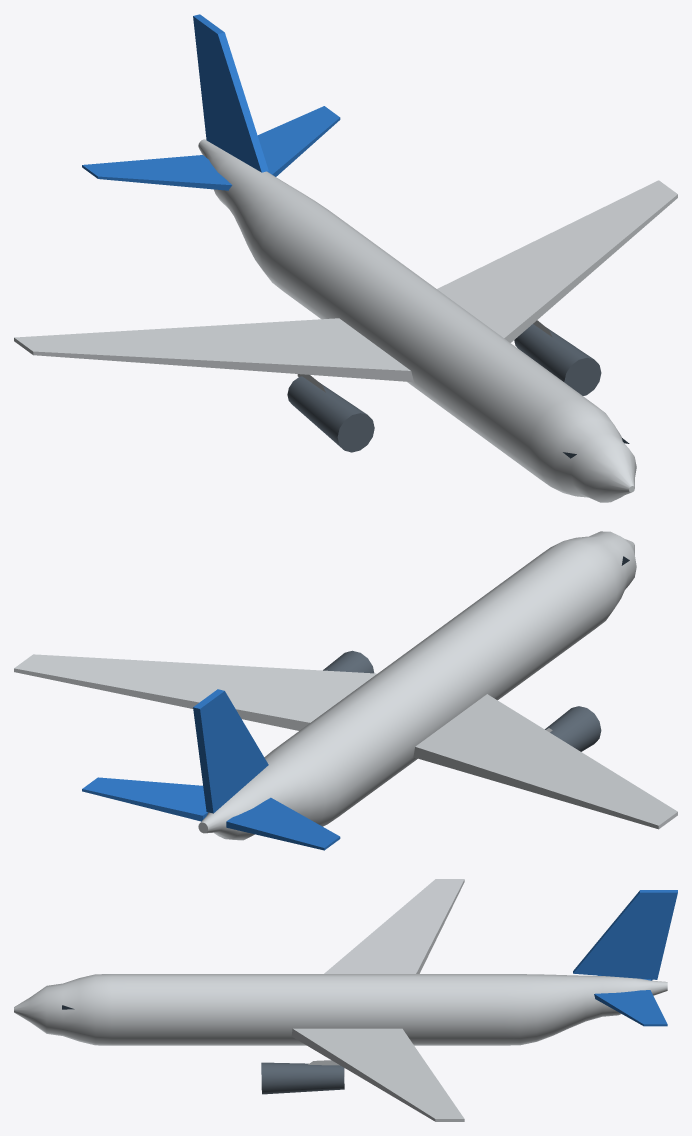
Rendered from airliner.glb.
3 views of the same model, one above another, from view 1: azimuth 30°, elevation 25°; view 2: azimuth 150°, elevation 25°; view 3: azimuth 270°, elevation 25° (orthographic). The views are drawn at different scales.
Visible parts, largest first — view 1: fuselage, wing_R, wing_L, fin, engine_R, stab_R, engine_L, stab_L; view 2: fuselage, wing_R, wing_L, fin, stab_L, stab_R, engine_R, engine_L; view 3: fuselage, wing_L, wing_R, fin, engine_L, stab_L.
Boxes of the visible parts, bbox=[...] form: fuselage: bbox=[198, 139, 636, 502]; wing_R: bbox=[14, 318, 414, 382]; wing_L: bbox=[437, 180, 677, 342]; fin: bbox=[193, 14, 268, 172]; engine_R: bbox=[287, 376, 374, 452]; stab_R: bbox=[82, 155, 232, 190]; engine_L: bbox=[514, 324, 601, 395]; stab_L: bbox=[257, 106, 340, 176]; fuselage: bbox=[198, 531, 636, 840]; wing_R: bbox=[413, 694, 677, 829]; wing_L: bbox=[14, 654, 376, 730]; fin: bbox=[193, 689, 268, 813]; stab_L: bbox=[82, 777, 208, 821]; stab_R: bbox=[226, 797, 340, 850]; engine_R: bbox=[545, 706, 601, 751]; engine_L: bbox=[323, 650, 374, 673]; fuselage: bbox=[14, 974, 667, 1045]; wing_L: bbox=[291, 1028, 464, 1121]; wing_R: bbox=[324, 879, 464, 973]; fin: bbox=[573, 890, 677, 979]; engine_L: bbox=[261, 1062, 344, 1094]; stab_L: bbox=[594, 990, 667, 1026].
Bounding box in the file's own units: 33 × 10.23 × 38.6.
